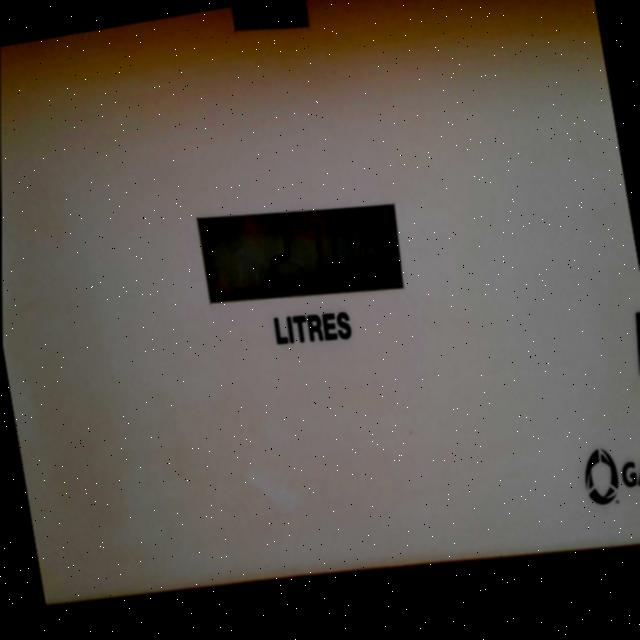.: (324, 271, 334, 294)
0: (321, 213, 364, 296), (356, 212, 393, 284)
2: (252, 212, 307, 309)
7: (295, 214, 333, 297)
